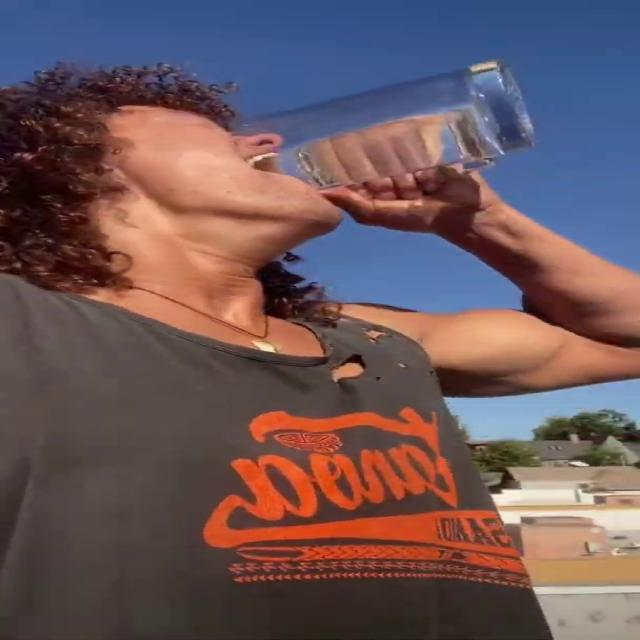Cup: (236, 59, 536, 191)
Hand: (290, 130, 502, 230)
Mouth: (226, 149, 308, 190)
